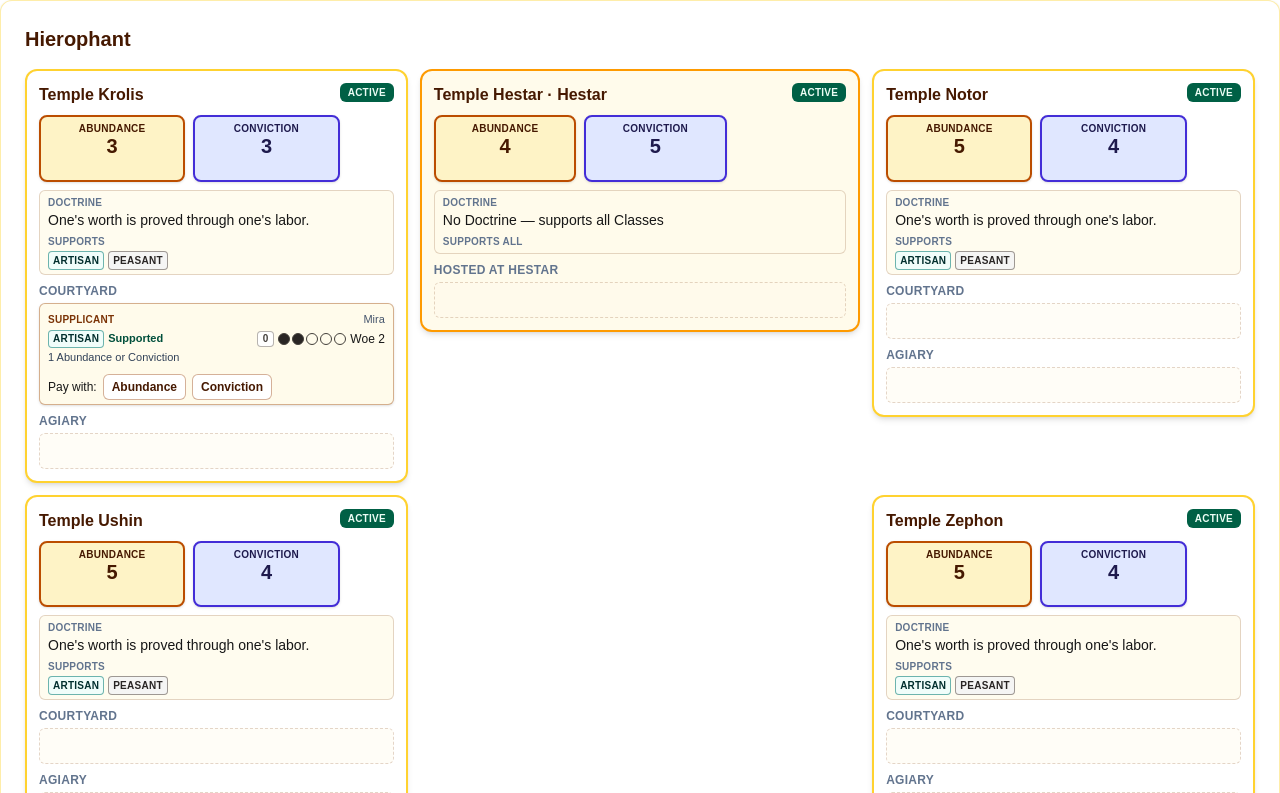
it: Hierophant Visions preview choices › lets an ambiguous Artisan pay with one click and change the forecast
Later steps or results of the test are not shown.
Expected: the element named "Temple Krolis board" shows "Pay with:", [48, 380, 97, 394]
Expected: the button "Abundance" is shown, [103, 374, 186, 400]
Click the button "Conviction" at coordinates (232, 387), box [192, 374, 272, 400]
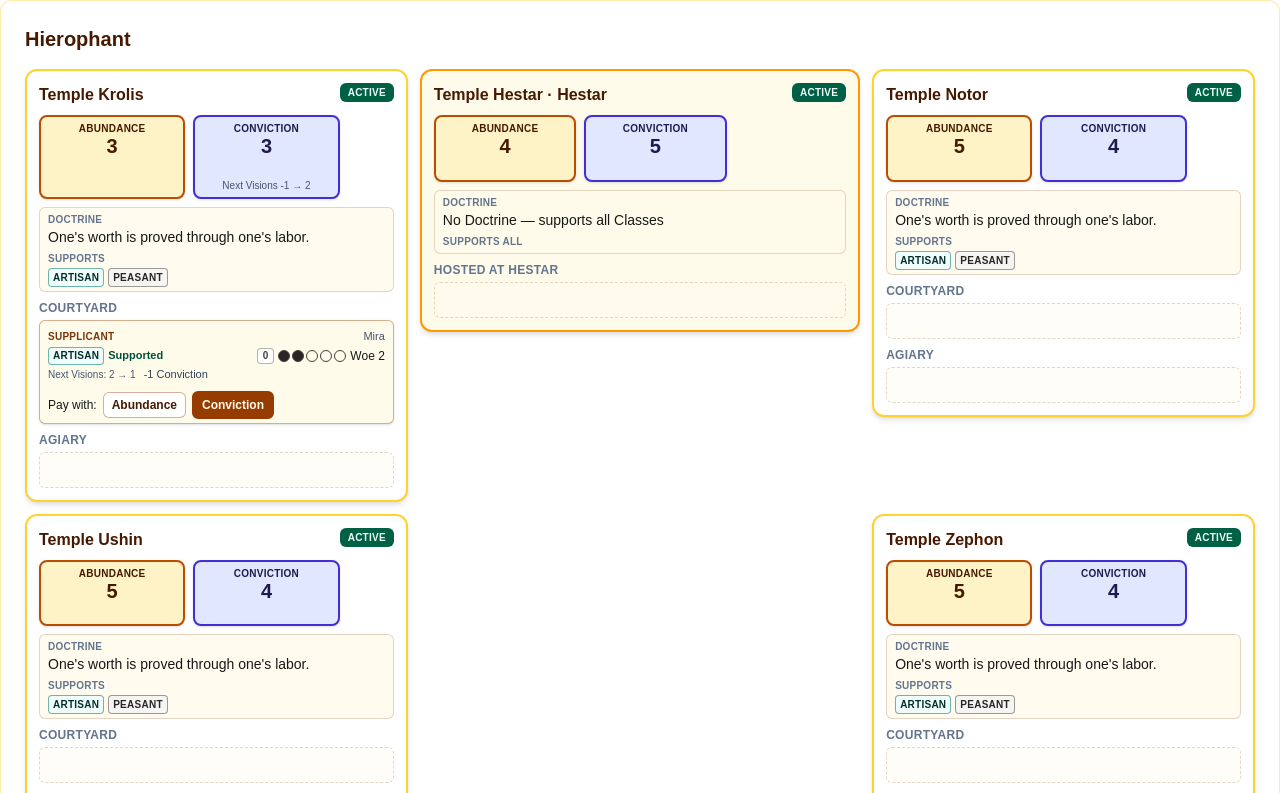
Expected: the element named "Conviction 3, Next Visions -1 → 2" is shown, [193, 115, 340, 199]
Now the button "Conviction" is pressed, box [192, 391, 274, 419]
